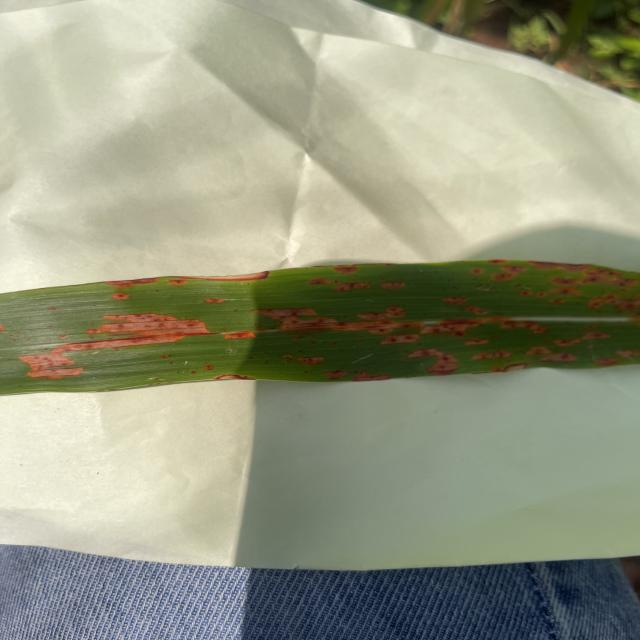millet_rust: (0, 260, 640, 395)
